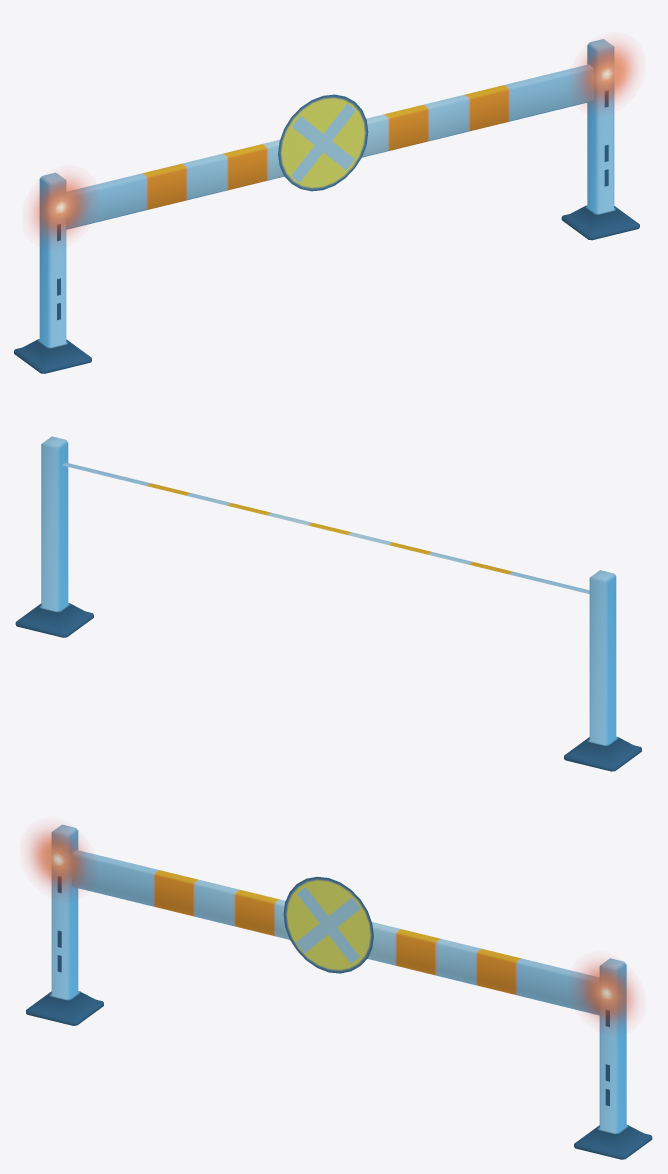
File: ObstacleHighBarrier.prefab.glb
The picture shows the model from 3 angles, top to bottom: view 1: azimuth 30°, elevation 25°; view 2: azimuth 150°, elevation 25°; view 3: azimuth 330°, elevation 25°; orthographic projection.
Visible parts, largest first — view 1: RoadWorksBarrierHigh, Light (1), Light; view 2: RoadWorksBarrierHigh; view 3: RoadWorksBarrierHigh, Light (1), Light.
Boxes of the visible parts, x1,y1,x2,y2 form: RoadWorksBarrierHigh: (14, 39, 639, 373); Light (1): (32, 176, 89, 238); Light: (578, 43, 635, 105); RoadWorksBarrierHigh: (15, 436, 641, 771); RoadWorksBarrierHigh: (26, 824, 652, 1159); Light (1): (29, 828, 87, 891); Light: (578, 962, 635, 1024).
Bounding box in the file's own units: 5.29 × 1.61 × 0.4257.
Materials: 2 (1 with a texture image).
